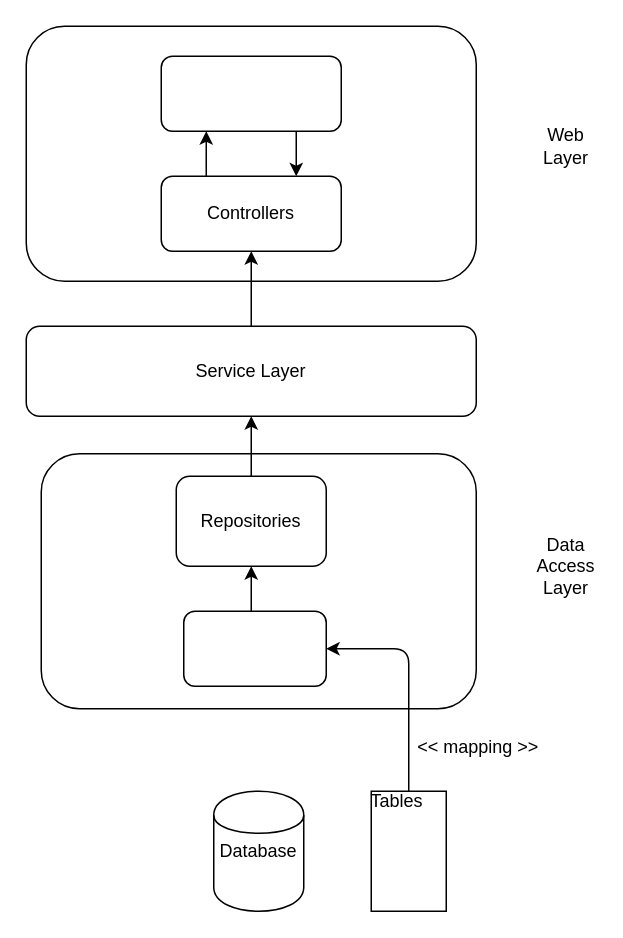
Some shapes in this 623 by 938 pixel diagram are drawn without their labels. The shapes that lost their labels are listed below. From the top down, each one's centre as x and y in pixels, then its label:
At point (250, 93): "View templates".
At point (254, 648): "Domains".
